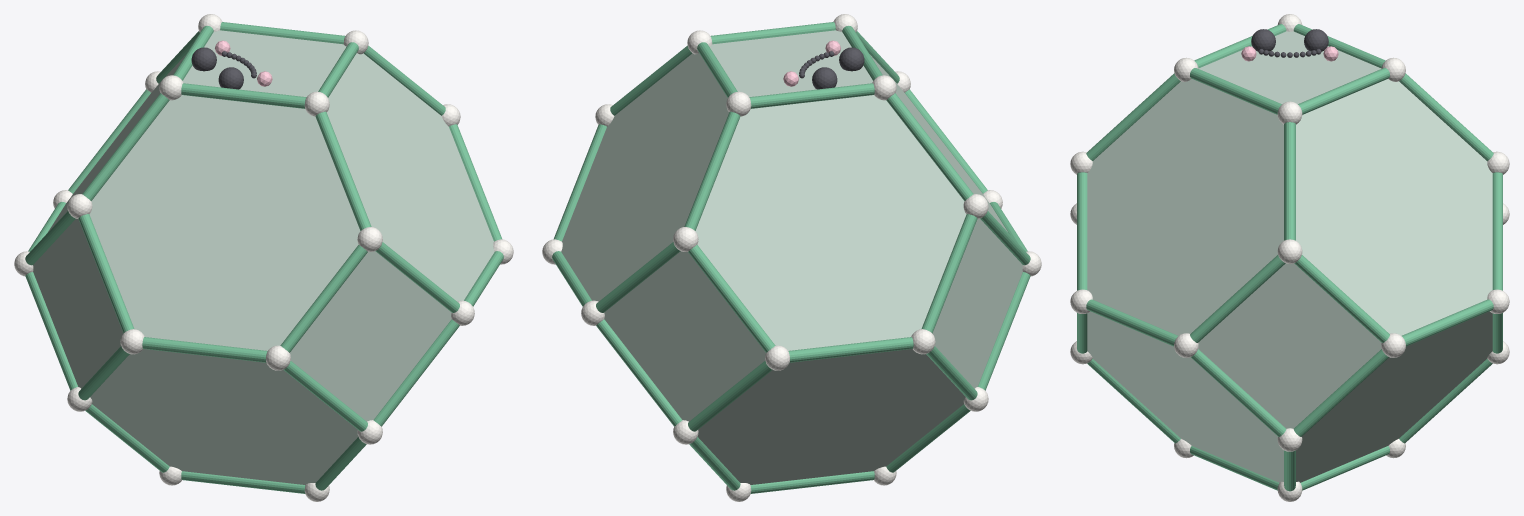
File: truncated_octahedron_cute_smile_facets_edges_vertices.glb
3 renders of one model, left to right at view 1: azimuth 30°, elevation 25°; view 2: azimuth 150°, elevation 25°; view 3: azimuth 270°, elevation 25°, orthographic. The views are drawn at different scales.
Visible parts, largest first — view 1: truncated_octahedron_cute_smile_facets_edges_vertices_Body, truncated_octahedron_cute_smile_facets_edges_vertices_Edges, truncated_octahedron_cute_smile_facets_edges_vertices_Vertic, truncated_octahedron_cute_smile_facets_edges_vertices_Smiley; view 2: truncated_octahedron_cute_smile_facets_edges_vertices_Body, truncated_octahedron_cute_smile_facets_edges_vertices_Edges, truncated_octahedron_cute_smile_facets_edges_vertices_Vertic, truncated_octahedron_cute_smile_facets_edges_vertices_Smiley; view 3: truncated_octahedron_cute_smile_facets_edges_vertices_Body, truncated_octahedron_cute_smile_facets_edges_vertices_Edges, truncated_octahedron_cute_smile_facets_edges_vertices_Vertic, truncated_octahedron_cute_smile_facets_edges_vertices_Smiley.
Boxes of the visible parts, left/top/right/bottom form: truncated_octahedron_cute_smile_facets_edges_vertices_Body: left=33, top=30, right=494, bottom=484; truncated_octahedron_cute_smile_facets_edges_vertices_Edges: left=25, top=22, right=503, bottom=493; truncated_octahedron_cute_smile_facets_edges_vertices_Vertic: left=14, top=14, right=513, bottom=501; truncated_octahedron_cute_smile_facets_edges_vertices_Smiley: left=191, top=47, right=256, bottom=89; truncated_octahedron_cute_smile_facets_edges_vertices_Body: left=561, top=30, right=1022, bottom=484; truncated_octahedron_cute_smile_facets_edges_vertices_Edges: left=552, top=22, right=1030, bottom=493; truncated_octahedron_cute_smile_facets_edges_vertices_Vertic: left=542, top=14, right=1041, bottom=501; truncated_octahedron_cute_smile_facets_edges_vertices_Smiley: left=799, top=47, right=864, bottom=89; truncated_octahedron_cute_smile_facets_edges_vertices_Body: left=1087, top=31, right=1492, bottom=482; truncated_octahedron_cute_smile_facets_edges_vertices_Edges: left=1077, top=24, right=1502, bottom=491; truncated_octahedron_cute_smile_facets_edges_vertices_Vertic: left=1070, top=14, right=1509, bottom=501; truncated_octahedron_cute_smile_facets_edges_vertices_Smiley: left=1251, top=29, right=1328, bottom=57.
Bounding box in the file's own units: 2.33 × 2.37 × 2.33.
